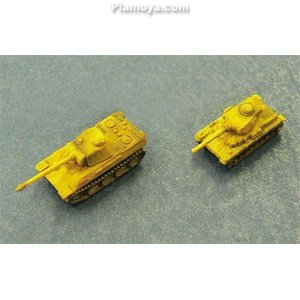Battle Tank: (13, 111, 151, 212), (184, 91, 288, 173)
